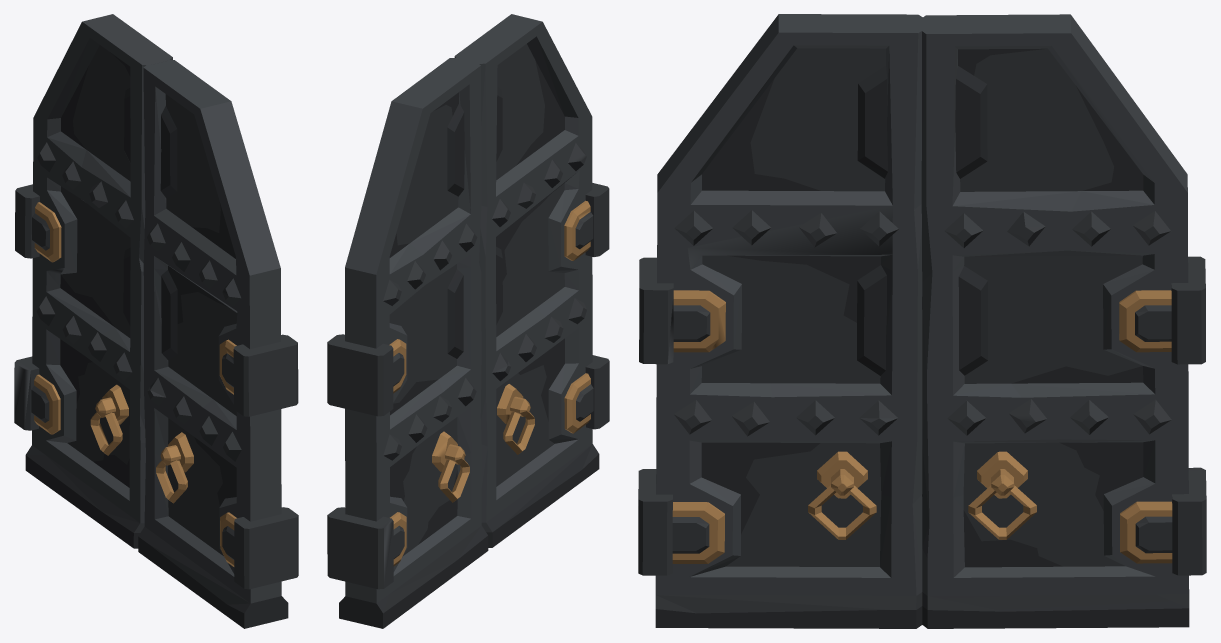
Rendered from Dungeon_Start_Door.glb.
The picture shows the model from 3 angles, left to right: view 1: azimuth 30°, elevation 25°; view 2: azimuth 150°, elevation 25°; view 3: azimuth 270°, elevation 25°; orthographic projection. The views are drawn at different scales.
Parts seen in each view (by area): view 1: DungeonDoor; view 2: DungeonDoor; view 3: DungeonDoor.
Boxes of the visible parts, x1,y1,x2,y2 form: DungeonDoor: (14, 14, 298, 628); DungeonDoor: (327, 14, 609, 628); DungeonDoor: (638, 14, 1206, 628).
Size of what is drawn, in the model's own units: 0.3318 by 2.66 by 2.32.
1 material, 1 textured.
